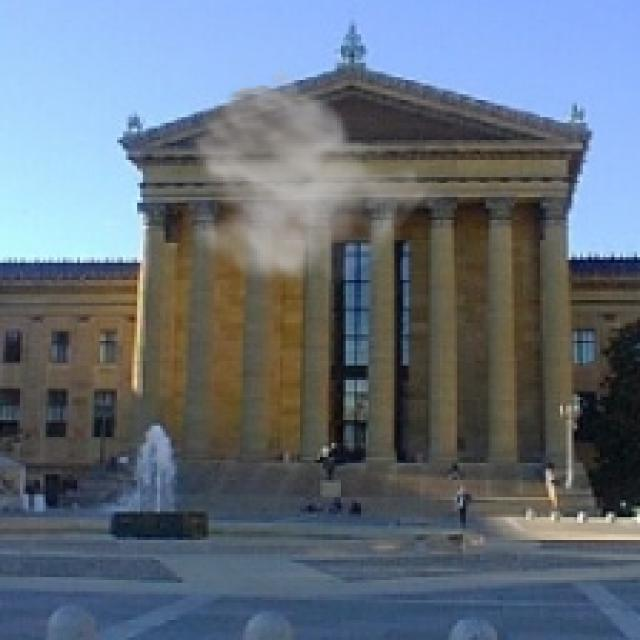Smoke: (165, 66, 448, 292)
